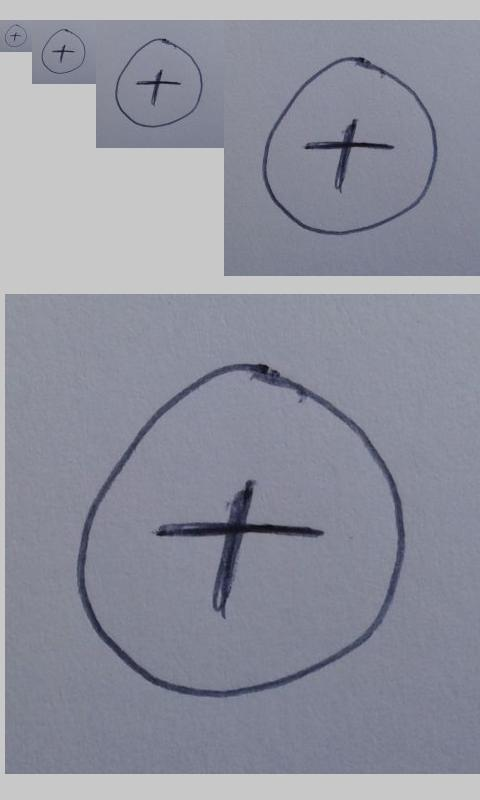button: (74, 359, 409, 702), (261, 56, 438, 236), (114, 38, 204, 128), (41, 28, 86, 75), (4, 24, 28, 48)
